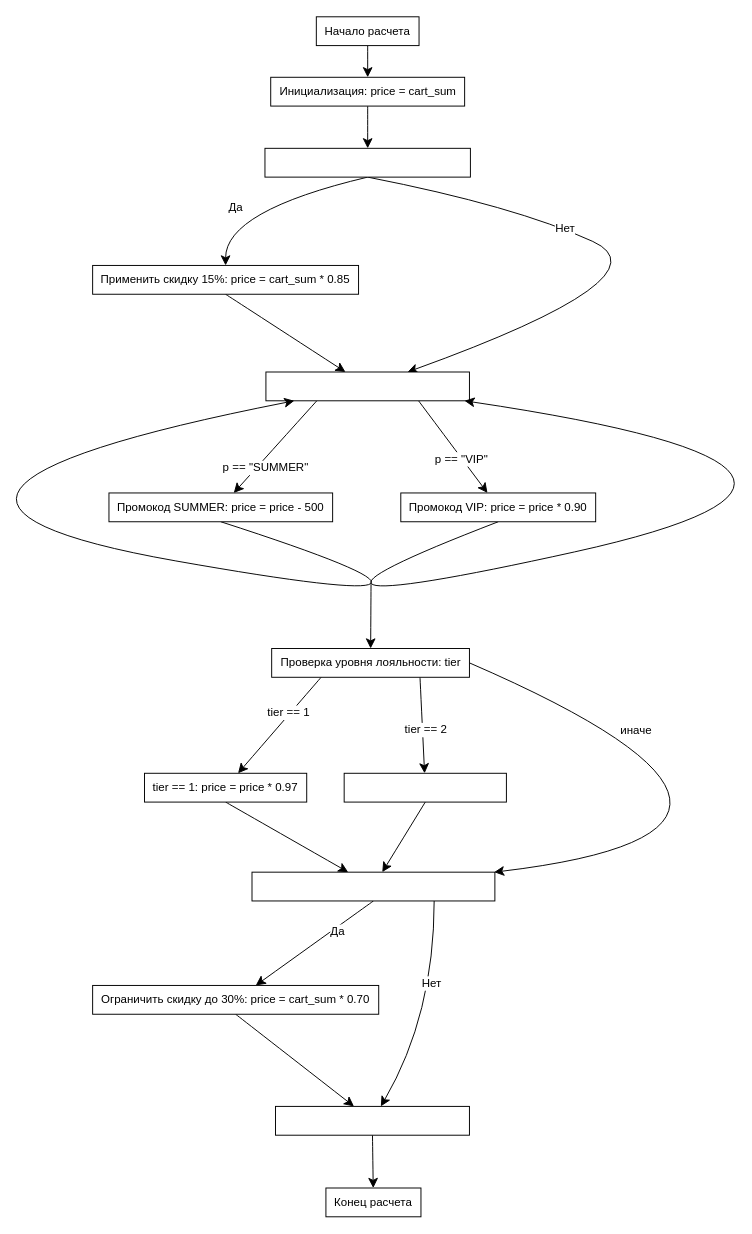
The diagram is 752 pixels wide and 1234 high, and some of its shapes have lost their labels. Here are the shapes that lost their labels. From the top down, the box of each, then its label:
(264, 147, 470, 177): Базовая скидка: cart_sum > 15000?
(265, 371, 469, 401): Цикл: Перебор каждого p в promos
(343, 772, 506, 802): tier == 2: price = price * 0.93
(251, 871, 495, 901): Защита от фрода: price < cart_sum * 0.70?
(275, 1105, 469, 1135): Итоговый возврат значения price
